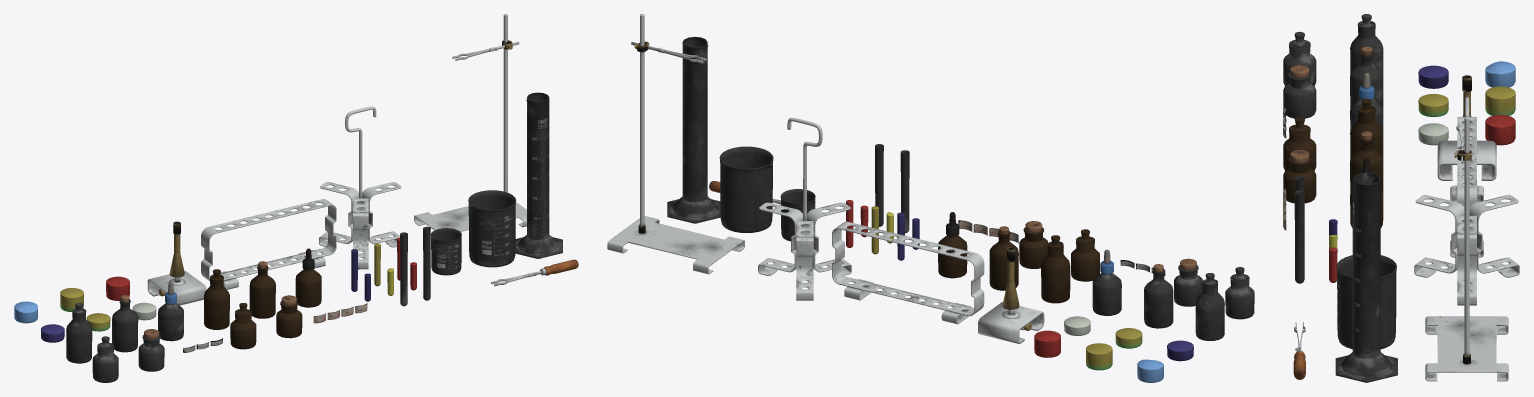
Rendered from jars.glb.
3 renders of one model, left to right at view 1: azimuth 30°, elevation 25°; view 2: azimuth 150°, elevation 25°; view 3: azimuth 270°, elevation 25°, orthographic. The views are drawn at different scales.
Visible parts, largest first — view 1: chemistry_set_beaker_large, chemistry_set_beaker_med, chemistry_set_test_tube_stand_a, chemistry_set_test_tube_stand_b, chemistry_set_clamp_stand, chemistry_set_bunsen_burner, chemistry_set_beaker_small, chemistry_set_bottle_clear_c, chemistry_set_bottle_dark_c, chemistry_set_bottle_dark_d, chemistry_set_bottle_clear_d, chemistry_set_bottle_dark_e (+11 smaller); view 2: chemistry_set_beaker_large, chemistry_set_clamp_stand, chemistry_set_beaker_med, chemistry_set_test_tube_stand_a, chemistry_set_test_tube_stand_b, chemistry_set_bunsen_burner, chemistry_set_bottle_clear_c, chemistry_set_bottle_dark_c, chemistry_set_bottle_clear_d, chemistry_set_bottle_clear_e, chemistry_set_bottle_dark_d, chemistry_set_bottle_clear_a (+10 smaller); view 3: chemistry_set_beaker_large, chemistry_set_clamp_stand, chemistry_set_test_tube_stand_b, chemistry_set_beaker_med, chemistry_set_bunsen_burner, chemistry_set_test_tube_stand_a, chemistry_set_bottle_clear_b, chemistry_set_bottle_clear_d, chemistry_set_bottle_dark_b, chemistry_set_bottle_dark_c, chemistry_set_bottle_clear_c, chemistry_set_test_tube_a (+17 smaller).
Boxes of the visible parts, x1,y1,x2,y2 form: chemistry_set_beaker_large: (515,92,562,258); chemistry_set_beaker_med: (468,190,516,267); chemistry_set_test_tube_stand_a: (201,199,336,289); chemistry_set_test_tube_stand_b: (319,106,401,269); chemistry_set_clamp_stand: (414,14,526,231); chemistry_set_bunsen_burner: (147,221,206,305); chemistry_set_beaker_small: (430,228,461,275); chemistry_set_bottle_clear_c: (66,308,92,363); chemistry_set_bottle_dark_c: (204,275,229,329); chemistry_set_bottle_dark_d: (249,265,275,318); chemistry_set_bottle_clear_d: (112,299,138,352); chemistry_set_bottle_dark_e: (295,269,321,307); chemistry_set_beaker_large: (667,36,720,223); chemistry_set_clamp_stand: (607,14,744,274); chemistry_set_beaker_med: (719,146,773,232); chemistry_set_test_tube_stand_a: (832,221,984,324); chemistry_set_test_tube_stand_b: (758,118,851,300); chemistry_set_bunsen_burner: (978,247,1044,343); chemistry_set_bottle_clear_c: (1195,279,1224,340); chemistry_set_bottle_dark_c: (1041,241,1070,303); chemistry_set_bottle_clear_d: (1144,268,1173,328); chemistry_set_bottle_clear_e: (1092,273,1121,315); chemistry_set_bottle_dark_d: (989,231,1018,290); chemistry_set_bottle_clear_a: (1225,274,1254,319); chemistry_set_beaker_large: (1335,172,1397,382); chemistry_set_clamp_stand: (1425,117,1508,381); chemistry_set_test_tube_stand_b: (1414,97,1519,305); chemistry_set_beaker_med: (1336,255,1396,349); chemistry_set_bunsen_burner: (1437,75,1496,180); chemistry_set_test_tube_stand_a: (1450,117,1483,257); chemistry_set_bottle_clear_b: (1283,72,1316,118); chemistry_set_bottle_clear_d: (1350,51,1383,109); chemistry_set_bottle_dark_b: (1283,157,1316,203); chemistry_set_bottle_dark_c: (1350,106,1383,159); chemistry_set_bottle_clear_c: (1350,21,1383,74); chemistry_set_test_tube_a: (1294,190,1304,283).
Size of the model in its own units: 1.08 by 0.429 by 0.3539.
Materials: 2 (2 with a texture image).
